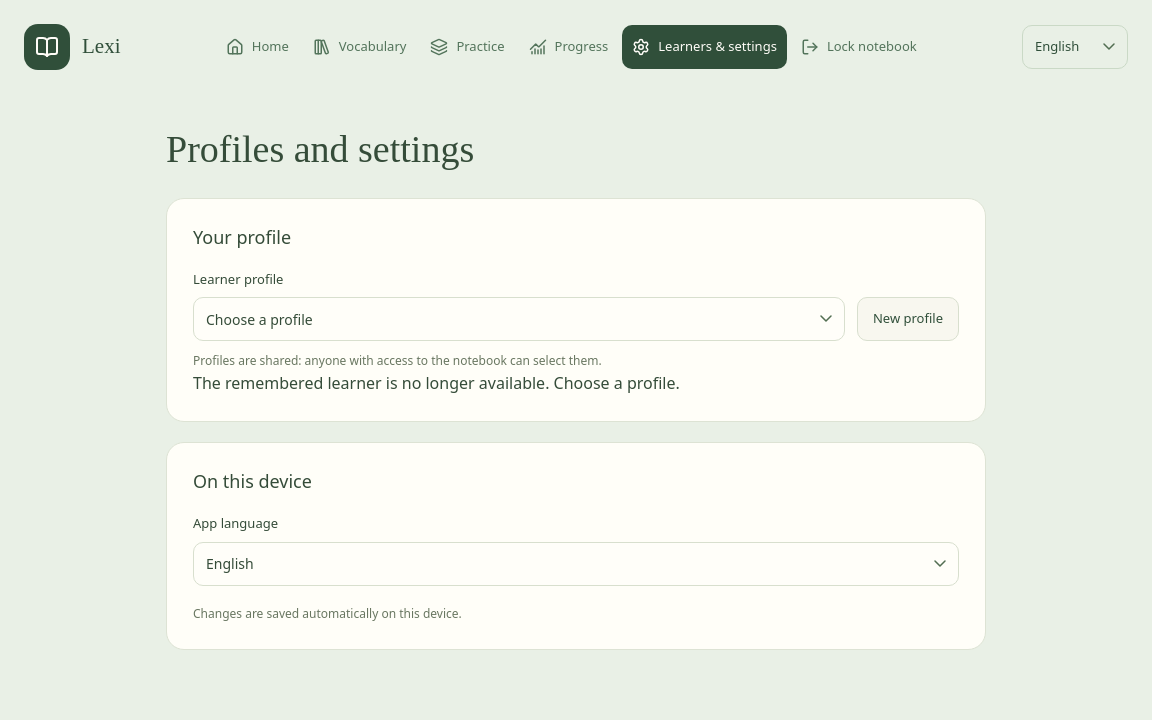
Test: a missing remembered profile offers a fresh selection
Expected: the text "The remembered learner is no longer available. Choose a profile." is shown, [193,372,680,394]
Expected: the field labelled "Name" is not shown
Select "Spyros" in the dropdown labelled "Learner profile". click: (519, 319)
box: [193,297,845,341]
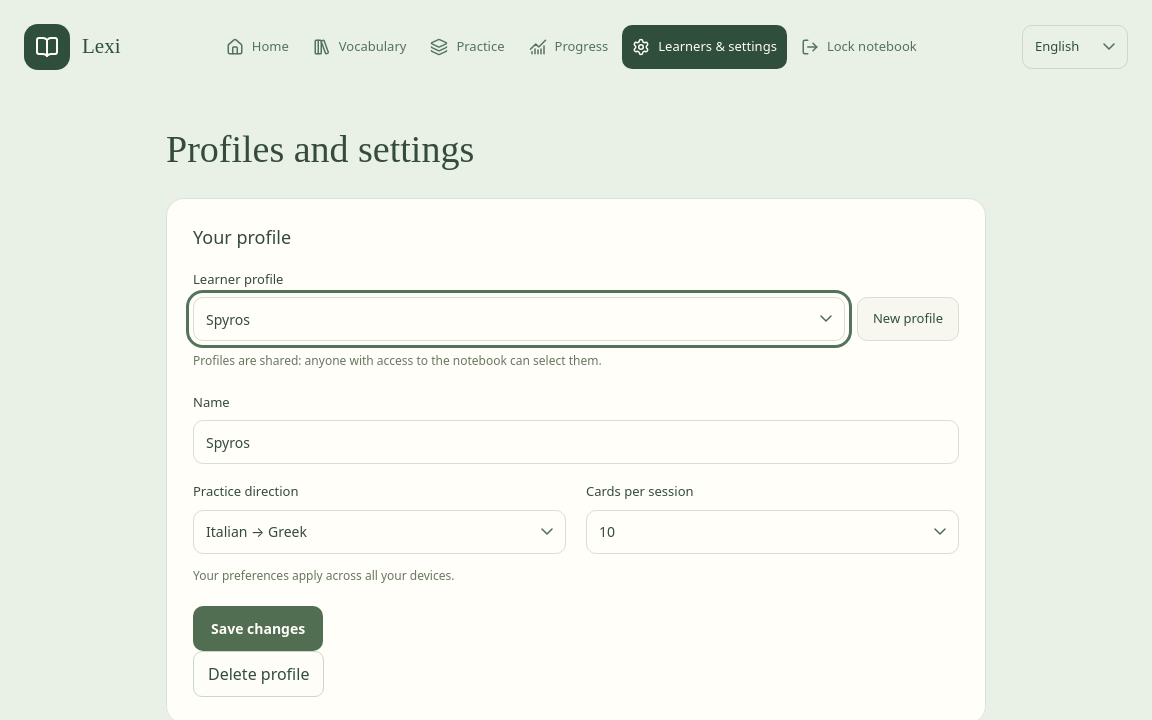
Result: the field labelled "Name" holds "Spyros" at [193,420,959,464]
